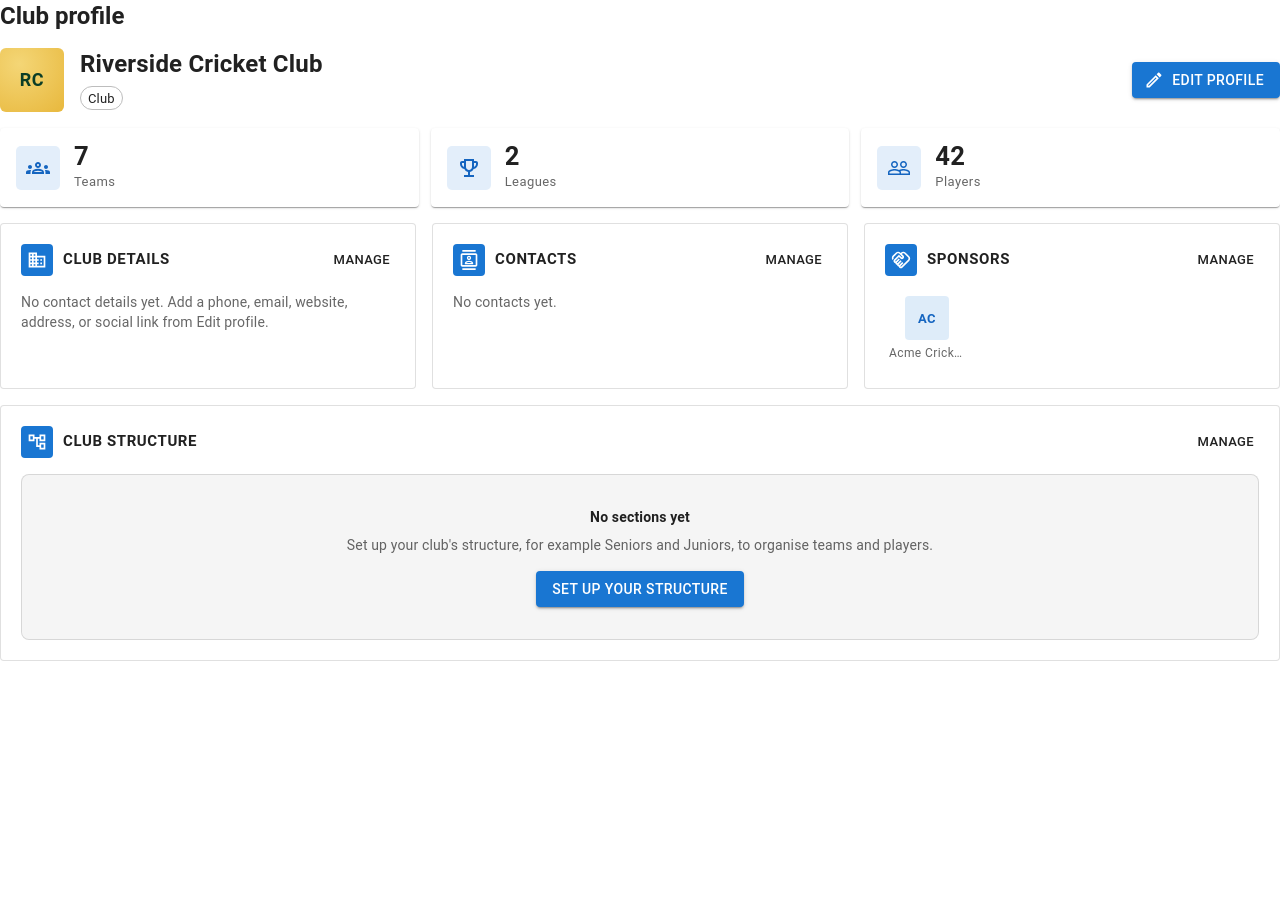
it: ClubOverviewPage › Sponsors card › clicking a sponsor icon opens RecordQuickViewDialog with Website/Email fields and its own edit link
Click the button with aria-label "Acme Cricket Gear — Sponsor": (927, 330) [885,292,969,368]
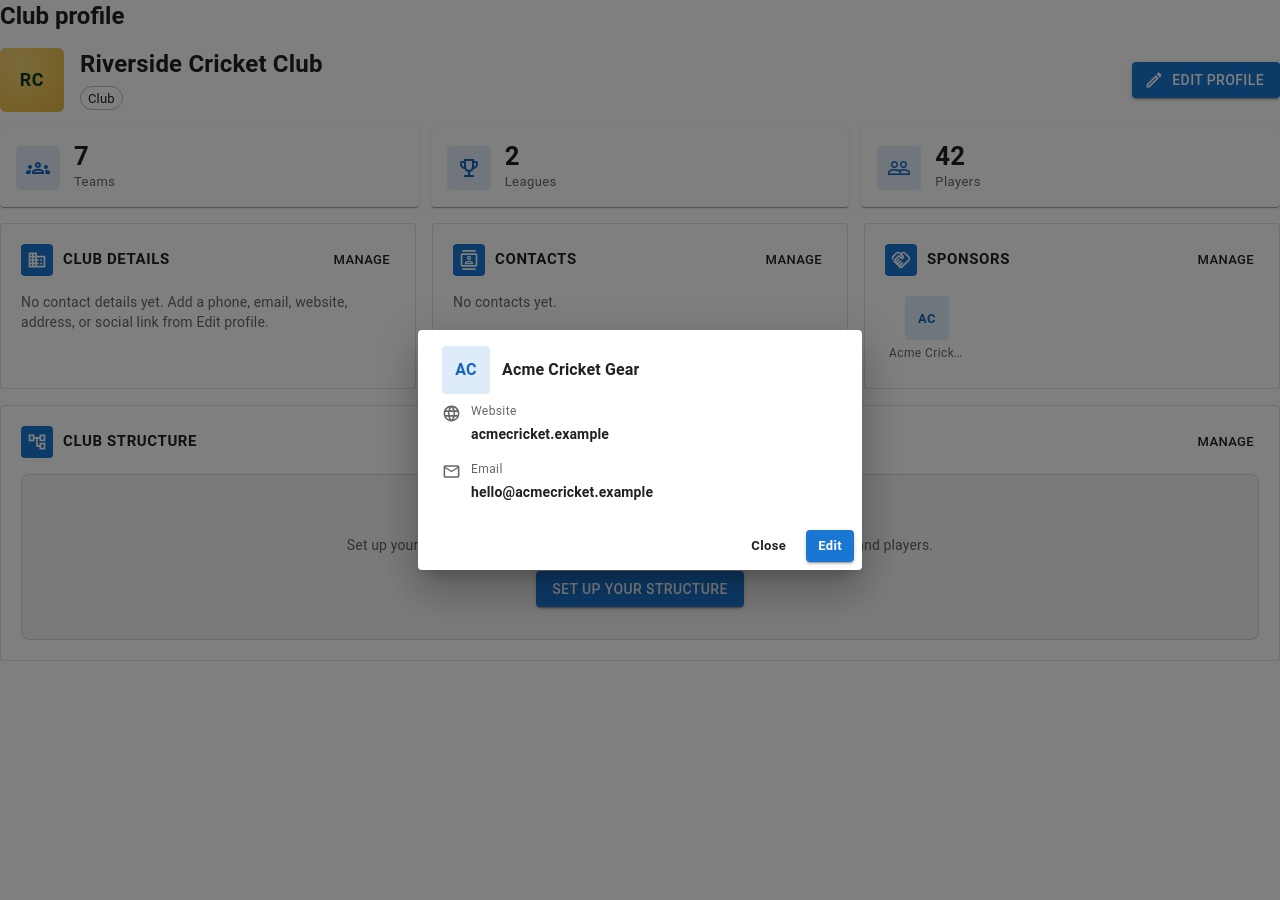
Now the text "acmecricket.example" is shown, box [471,424,609,444]
Now the text "hello@acmecricket.example" is shown, box [471,482,653,502]
